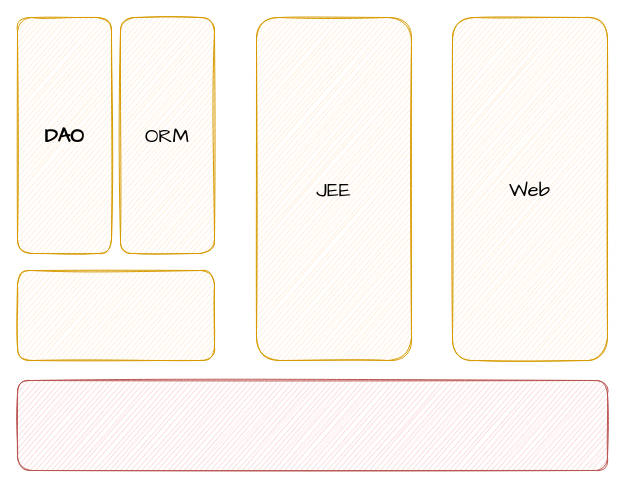
This 625x488 diagram has some shape labels left out. The shapes that lost their labels are listed below. From the top down, each one's box as (x1, y1, x2, y2) in pixels, then its label:
(16, 270, 214, 360): AOP
(16, 380, 608, 470): Core IoC Container
